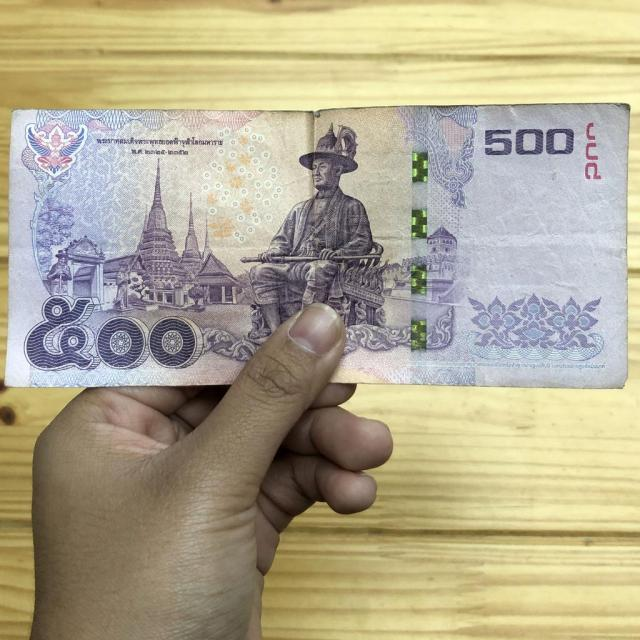THAI500: (6, 104, 629, 388)
